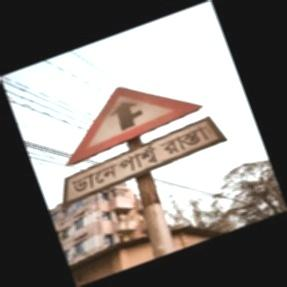Side-road-right: (62, 86, 220, 204)
